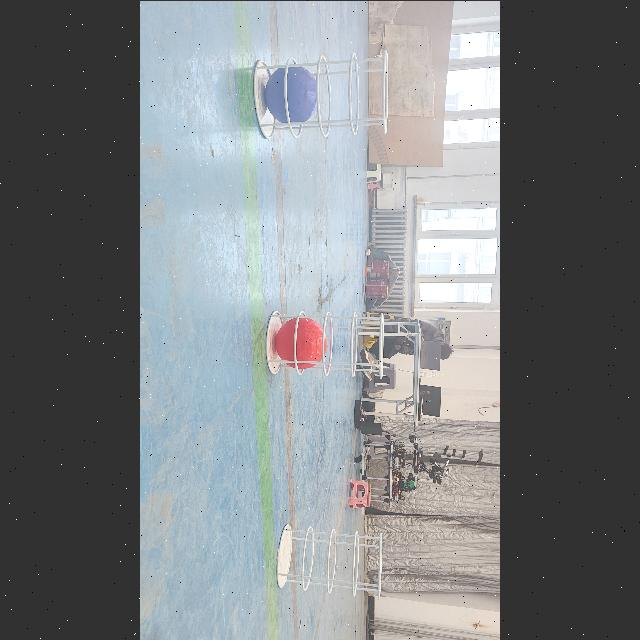B: (266, 64, 318, 124)
R: (275, 316, 327, 368)
S: (249, 46, 393, 142), (263, 307, 389, 379), (274, 521, 386, 601)
